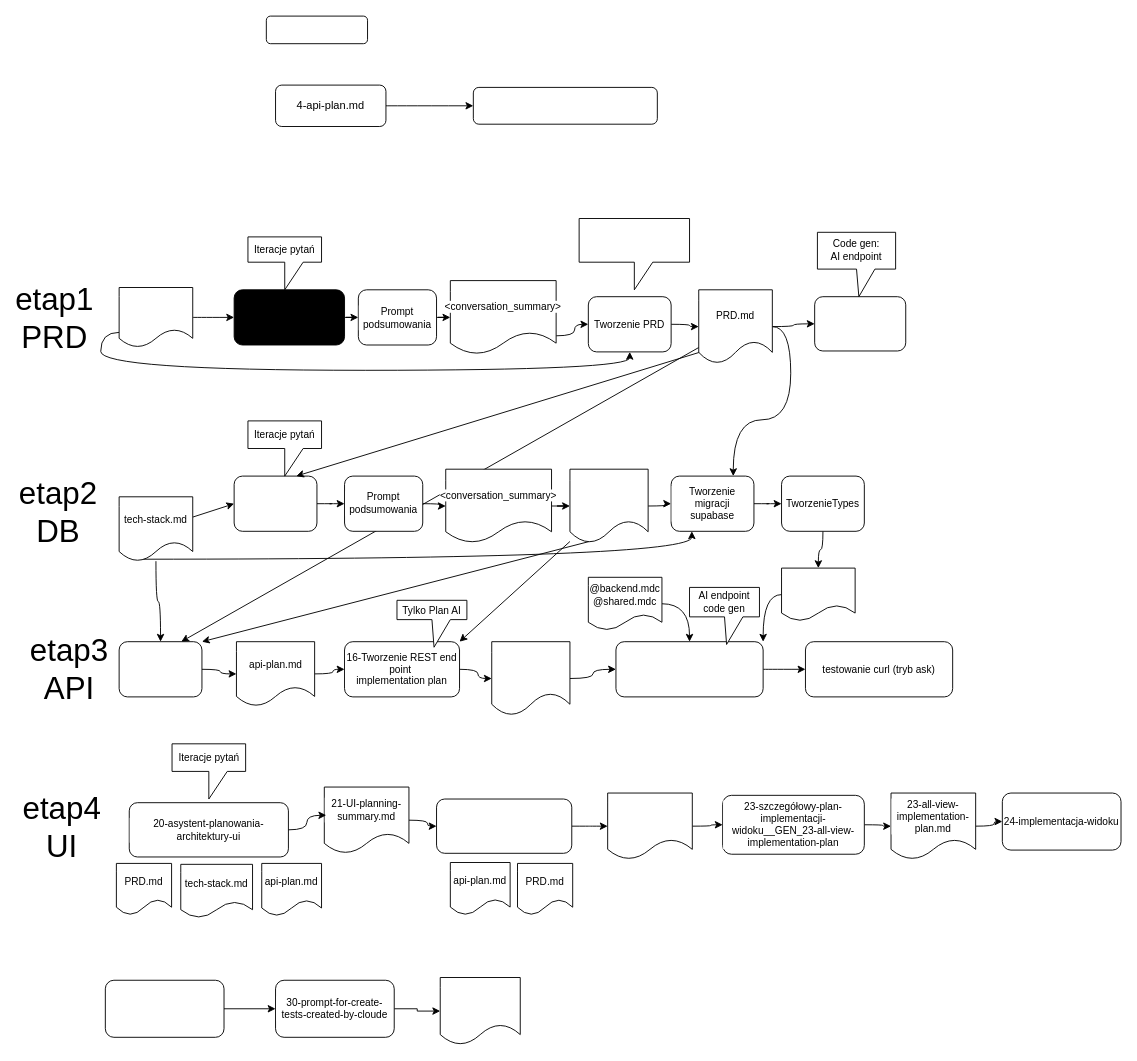
This 1137x1061 diagram has some shape labels left out. Each missing label, with the centre of its shape:
"14-Tworzenie planu REST-API" belongs at pixel 160 669.
"17-implementacja-endpointu-(workflow-3×3).md" belongs at pixel 689 669.
"22-generowanie-wysokopoziomowego-planu__Gen_22-ui-plan" belongs at pixel 504 825.
"22-ui-plan" belongs at pixel 649 825.
"3-db-plan.md" belongs at pixel 316 29.
"31-test-plan-complete.md" belongs at pixel 479 1011.
"5-view-implementation-plan" belongs at pixel 564 105.
"@MVP.txt" belongs at pixel 155 317.
"Asystem planowania DB" belongs at pixel 275 503.
"DB-plan.md" belongs at pixel 608 505.
"Dodatkowy komentarz od agenta" belongs at pixel 634 254.
"Generowanie app" belongs at pixel 860 323.
"przy pomocy cloude, wygeneruj prompta do budowania testów" belongs at pixel 164 1008.
"Sesja planistyczna dla PRD" belongs at pixel 289 317.
"Types.cs" belongs at pixel 818 594.
"view-implementation-plan.md" belongs at pixel 530 678.
